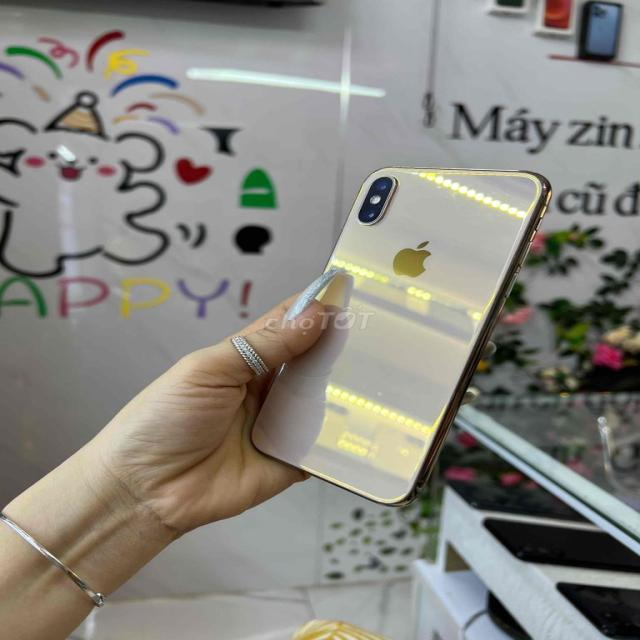gen_x_xs: (236, 163, 557, 522)
